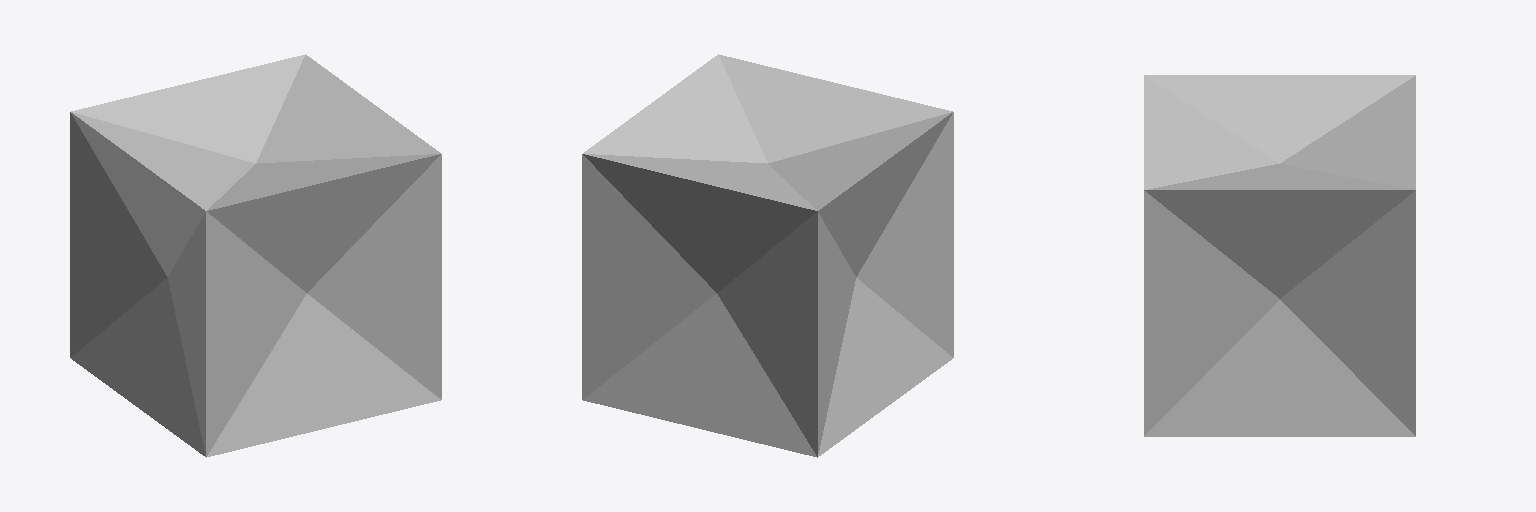
Rendered from machine_scrap.obj.
3 renders of one model, left to right at view 1: azimuth 30°, elevation 25°; view 2: azimuth 150°, elevation 25°; view 3: azimuth 270°, elevation 25°, orthographic.
Parts seen in each view (by area): view 1: cuboid; view 2: cuboid; view 3: cuboid.
Boxes of the visible parts, x1=… form: cuboid: x1=70, y1=54, x2=441, y2=457; cuboid: x1=582, y1=54, x2=953, y2=457; cuboid: x1=1144, y1=75, x2=1415, y2=436.
Size of the model in its own units: 1 by 1 by 1.